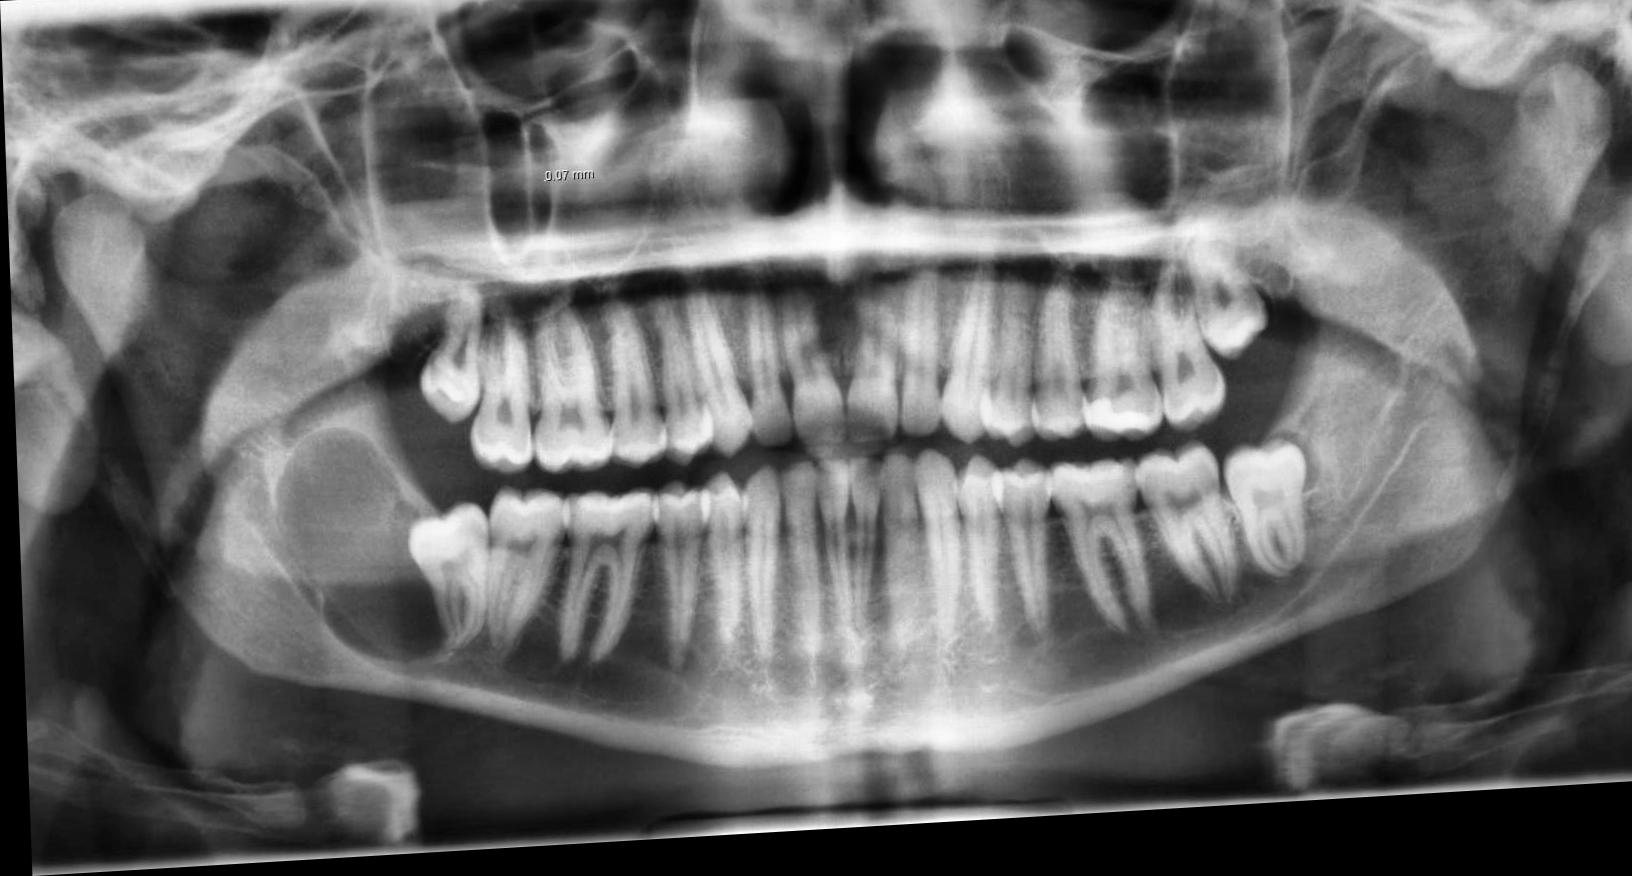okc: (267, 423, 467, 692)
